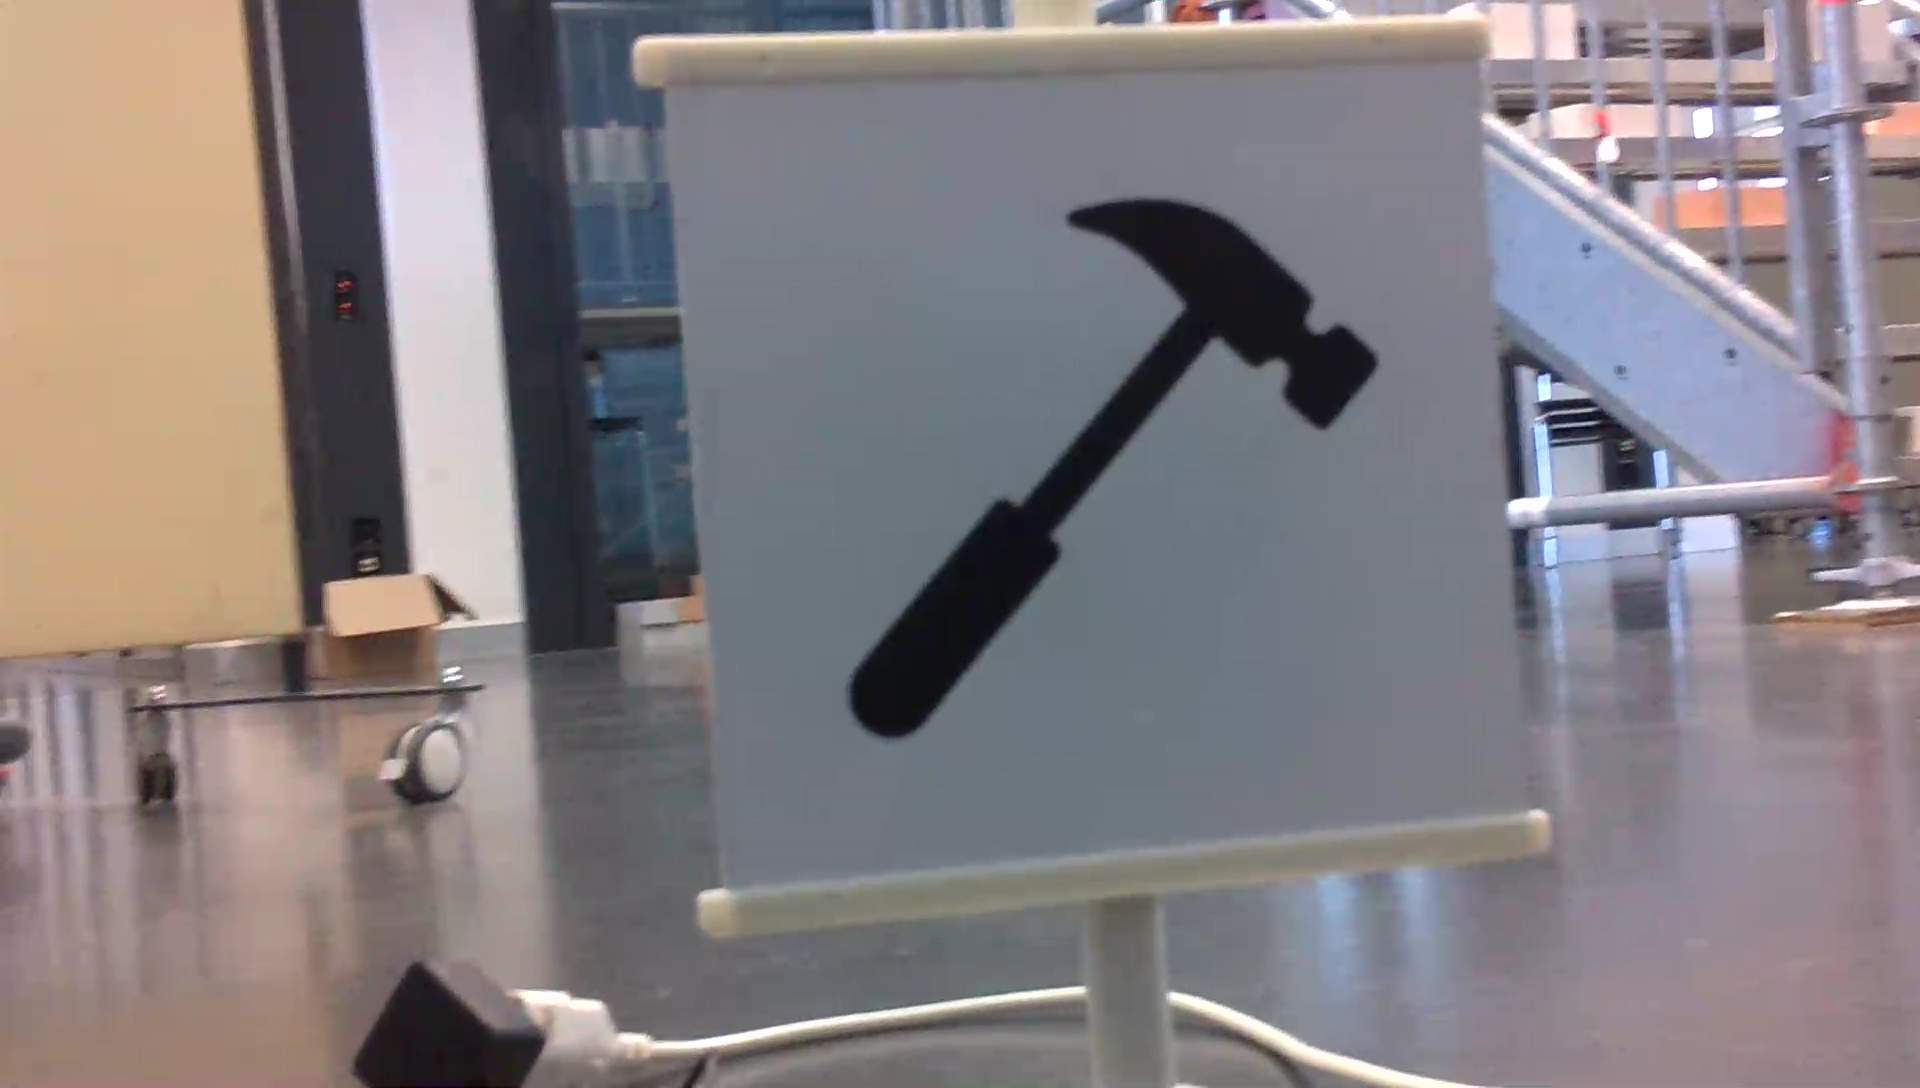hammer: (829, 187, 1387, 750)
